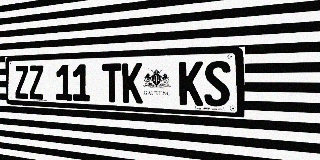1: (72, 64, 90, 101), (55, 64, 72, 101)
K: (179, 61, 203, 106), (122, 63, 143, 104)
S: (204, 60, 230, 107)
T: (102, 63, 122, 103)
Z: (29, 65, 44, 100), (14, 66, 29, 99)
